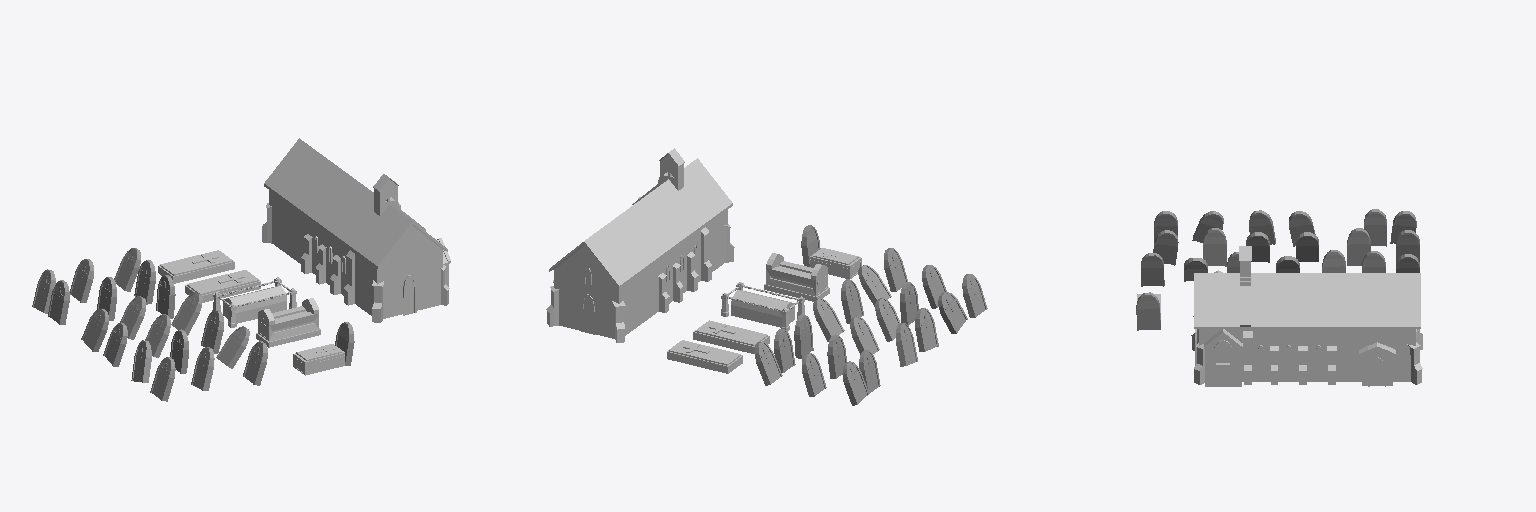
The model's file is VillageCemetery.obj.
The picture shows the model from 3 angles: view 1: azimuth 30°, elevation 25°; view 2: azimuth 150°, elevation 25°; view 3: azimuth 270°, elevation 25°; orthographic projection.
Parts seen in each view (by area): view 1: Cube.023_Cube.048, Cube.002, Cube.006_Cube.008, Cube.003_Cube.004, Cube.005_Cube.007, Cube.001, Cube.008_Cube.011, Cube.022_Cube.043, Cube.009_Cube.030, Cube.012_Cube.033, Cube.019_Cube.040, Cube.004_Cube.028 (+14 smaller); view 2: Cube.023_Cube.048, Cube.002, Cube.006_Cube.008, Cube.005_Cube.007, Cube.003_Cube.004, Cube.001, Cube.020_Cube.041, Cube.021_Cube.042, Cube.025_Cube.046, Cube.012_Cube.033, Cube.009_Cube.030, Cube.019_Cube.040 (+15 smaller); view 3: Cube.023_Cube.048, Cube.026_Cube.049, Cube, Cube.017_Cube.038, Cube.014_Cube.035, Cube.004_Cube.028, Cube.024_Cube.045, Cube.018_Cube.039, Cube.015_Cube.036, Cube.016_Cube.037, Cube.013_Cube.034, Cube.021_Cube.042 (+1 smaller).
Part boxes in pixels (bbox=[...]): Cube.023_Cube.048: bbox=[262, 138, 449, 322]; Cube.002: bbox=[256, 298, 320, 347]; Cube.006_Cube.008: bbox=[158, 250, 234, 283]; Cube.003_Cube.004: bbox=[223, 286, 286, 323]; Cube.005_Cube.007: bbox=[185, 270, 260, 302]; Cube.001: bbox=[293, 344, 344, 375]; Cube.008_Cube.011: bbox=[216, 326, 249, 368]; Cube.022_Cube.043: bbox=[81, 309, 108, 351]; Cube.009_Cube.030: bbox=[171, 292, 202, 335]; Cube.012_Cube.033: bbox=[114, 248, 140, 291]; Cube.019_Cube.040: bbox=[150, 357, 175, 401]; Cube.004_Cube.028: bbox=[243, 341, 267, 385]; Cube.023_Cube.048: bbox=[546, 148, 734, 342]; Cube.002: bbox=[764, 253, 829, 301]; Cube.006_Cube.008: bbox=[667, 340, 742, 373]; Cube.005_Cube.007: bbox=[693, 320, 769, 353]; Cube.003_Cube.004: bbox=[731, 290, 794, 327]; Cube.001: bbox=[810, 248, 861, 278]; Cube.020_Cube.041: bbox=[938, 292, 967, 333]; Cube.021_Cube.042: bbox=[915, 308, 938, 351]; Cube.025_Cube.046: bbox=[842, 361, 868, 405]; Cube.012_Cube.033: bbox=[755, 341, 782, 385]; Cube.009_Cube.030: bbox=[813, 298, 844, 341]; Cube.019_Cube.040: bbox=[962, 274, 987, 317]; Cube.023_Cube.048: bbox=[1191, 246, 1422, 386]; Cube.026_Cube.049: bbox=[1204, 329, 1242, 386]; Cube: bbox=[1136, 292, 1160, 330]; Cube.017_Cube.038: bbox=[1203, 228, 1226, 266]; Cube.014_Cube.035: bbox=[1347, 228, 1370, 265]; Cube.004_Cube.028: bbox=[1141, 253, 1164, 286]; Cube.024_Cube.045: bbox=[1364, 209, 1386, 246]; Cube.018_Cube.039: bbox=[1153, 230, 1178, 265]; Cube.015_Cube.036: bbox=[1296, 232, 1318, 261]; Cube.016_Cube.037: bbox=[1246, 232, 1269, 262]; Cube.013_Cube.034: bbox=[1396, 230, 1419, 262]; Cube.021_Cube.042: bbox=[1249, 210, 1275, 244].
Size of the model in its own units: 30.61 by 12.13 by 24.22.